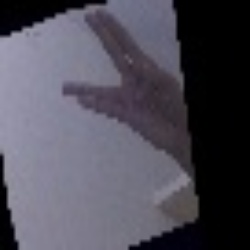hand: (56, 6, 182, 167)
